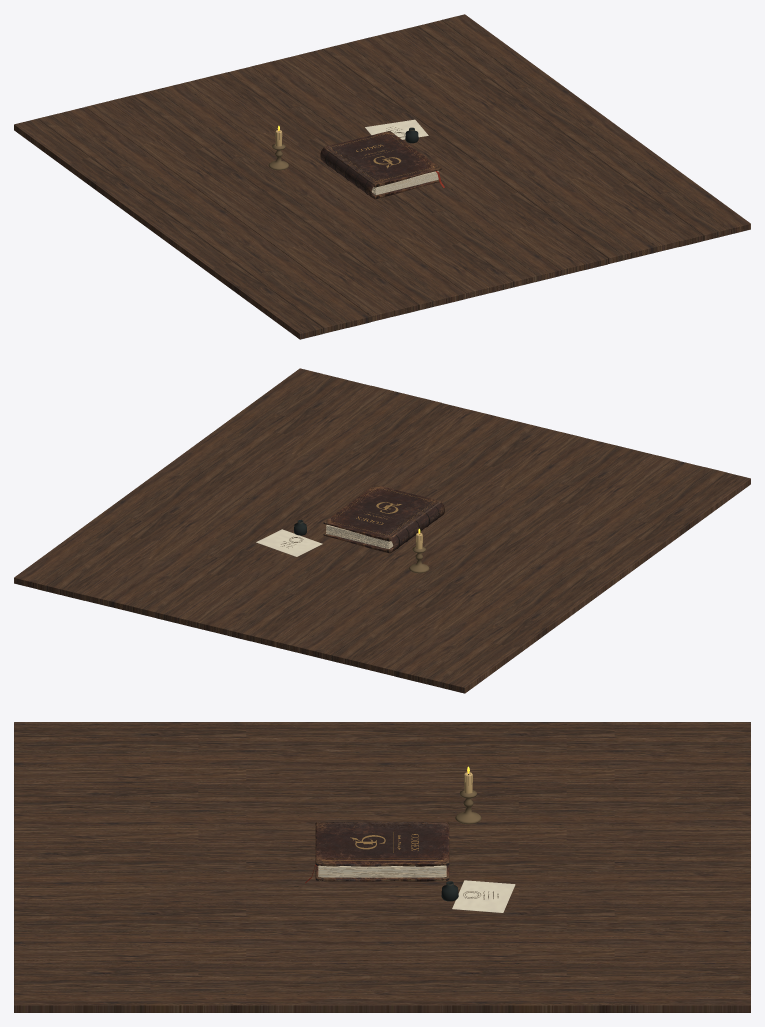
The model's file is scene_codex_v3.glb.
3 views of the same model, one above another, from view 1: azimuth 30°, elevation 25°; view 2: azimuth 150°, elevation 25°; view 3: azimuth 270°, elevation 25° (orthographic). The views are drawn at different scales.
Visible parts, largest first — view 1: Web Smoked walnut • long grain, Front cover, Web Warm rag paper, Web Leather turned over the board edges; view 2: Web Smoked walnut • long grain, Front cover, Web Warm rag paper, Web Leather turned over the board edges; view 3: Web Smoked walnut • long grain, Front cover, Web Warm rag paper, Back board, Web Aged brass.
Boxes of the visible parts, x1,y1,x2,y2 form: Web Smoked walnut • long grain: (14,14,750,339); Front cover: (323,131,441,187); Web Warm rag paper: (365,119,438,194); Web Leather turned over the board edges: (320,148,374,199); Web Smoked walnut • long grain: (14,368,750,693); Front cover: (323,485,441,541); Web Warm rag paper: (256,526,393,556); Web Leather turned over the board edges: (390,502,444,553); Web Smoked walnut • long grain: (14,722,750,1012); Front cover: (315,822,449,866); Web Warm rag paper: (319,866,515,912); Back board: (315,865,449,881); Web Aged brass: (446,790,481,885).
Bounding box in the file's own units: 21.85 × 2.18 × 24.
Materials: 26 (5 with a texture image).
